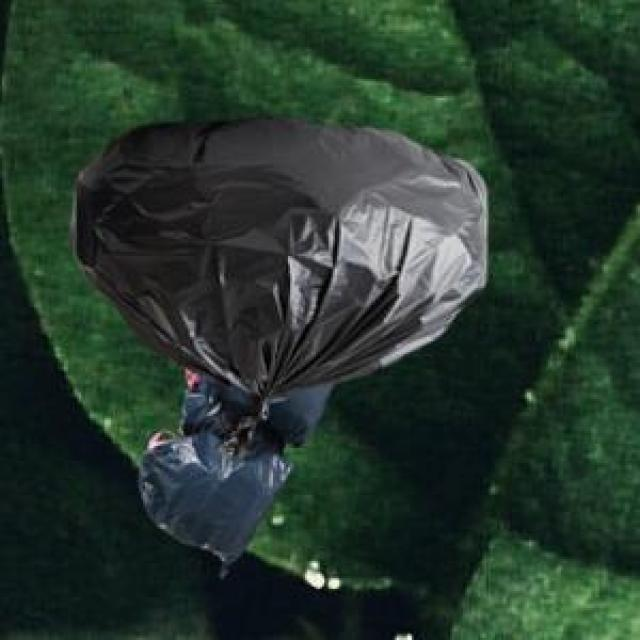miscellaneous trash: (66, 113, 482, 457), (137, 369, 333, 574)
